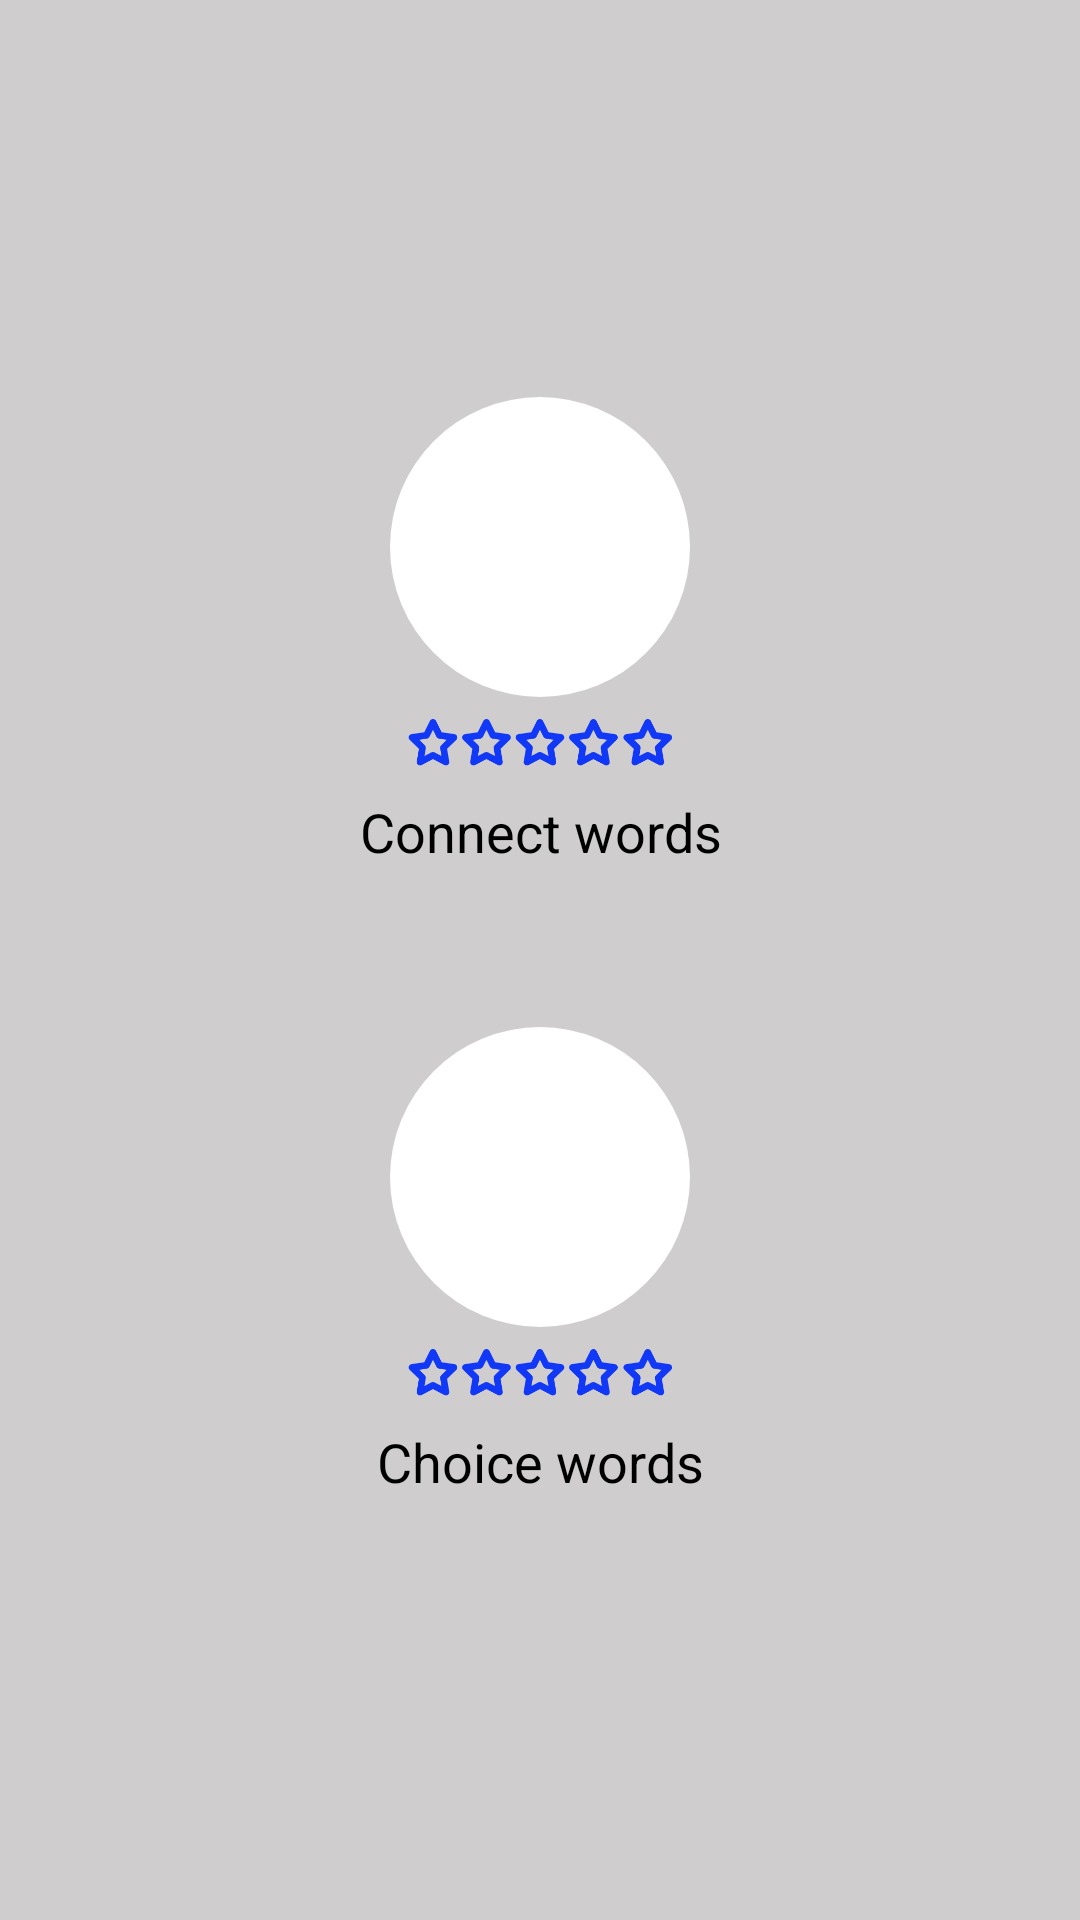

Where to tap for icons on this 1080x1920 app screen, as (x=x, y=y):
star: (x=540, y=742), (x=540, y=1372)
